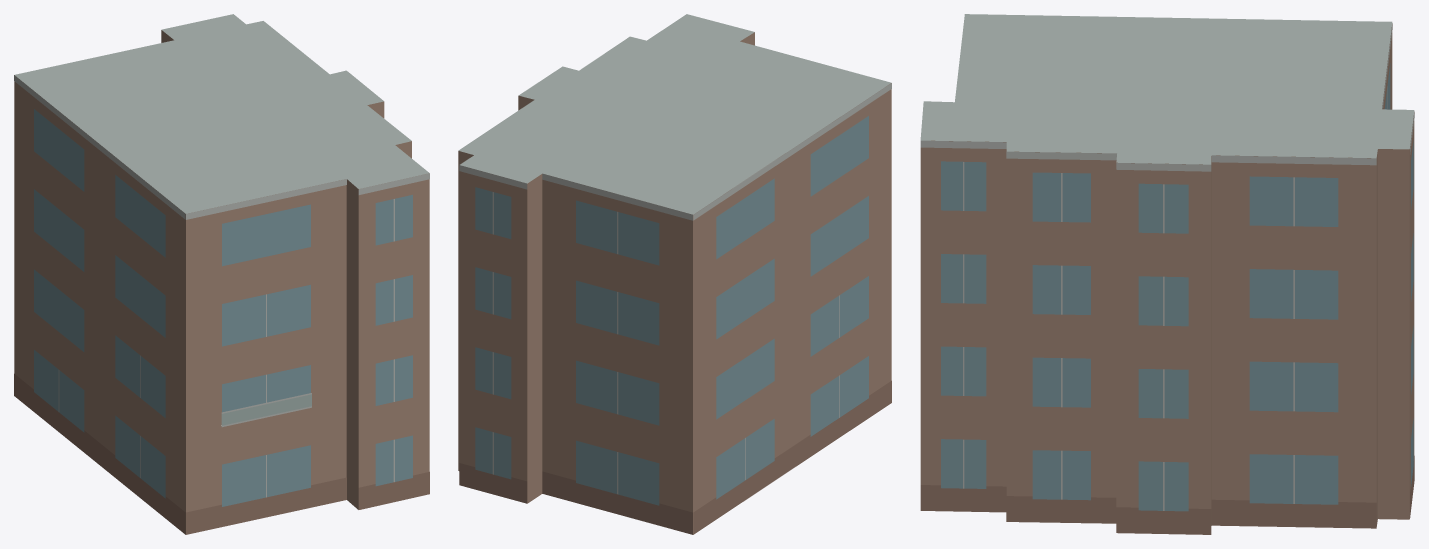
Rendered from survey-upis-32703015.glb.
3 views of the same model, side by side, from view 1: azimuth 30°, elevation 25°; view 2: azimuth 150°, elevation 25°; view 3: azimuth 270°, elevation 25° (orthographic). The views are drawn at different scales.
Visible parts, largest first — view 1: survey-upis-32703015.tmp; view 2: survey-upis-32703015.tmp; view 3: survey-upis-32703015.tmp.
Part boxes in pixels (x1=…): survey-upis-32703015.tmp: x1=14, y1=14, x2=429, y2=534; survey-upis-32703015.tmp: x1=458, y1=14, x2=891, y2=534; survey-upis-32703015.tmp: x1=920, y1=14, x2=1414, y2=534.
Bounding box in the file's own units: 11.18 × 12.8 × 15.49.
